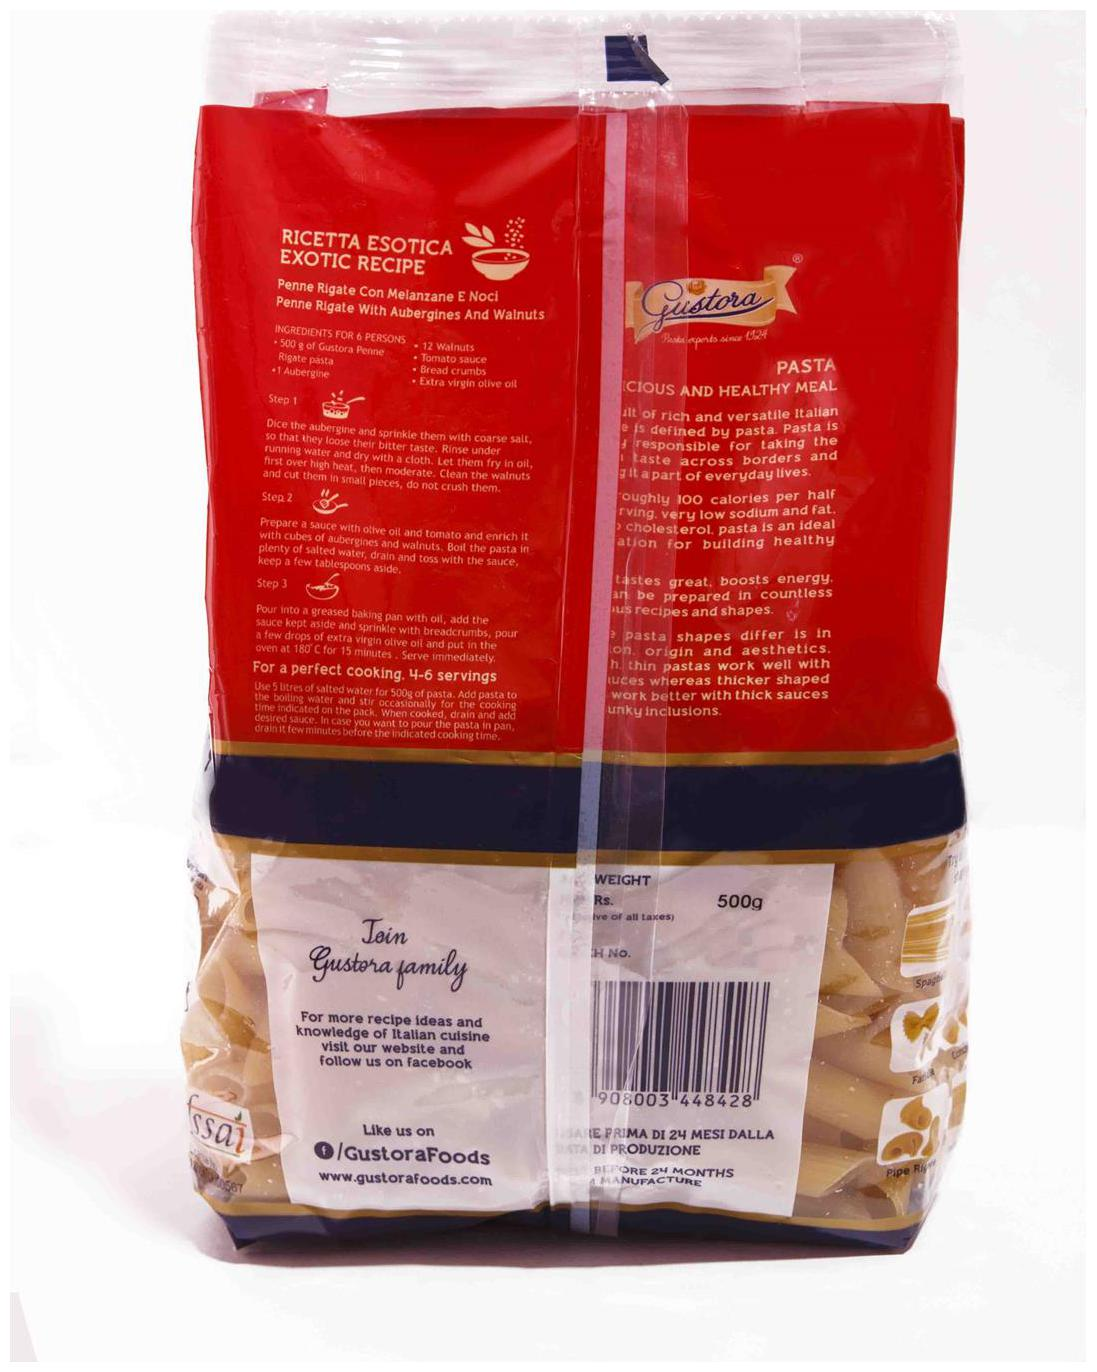fssai: (187, 1092, 249, 1158)
